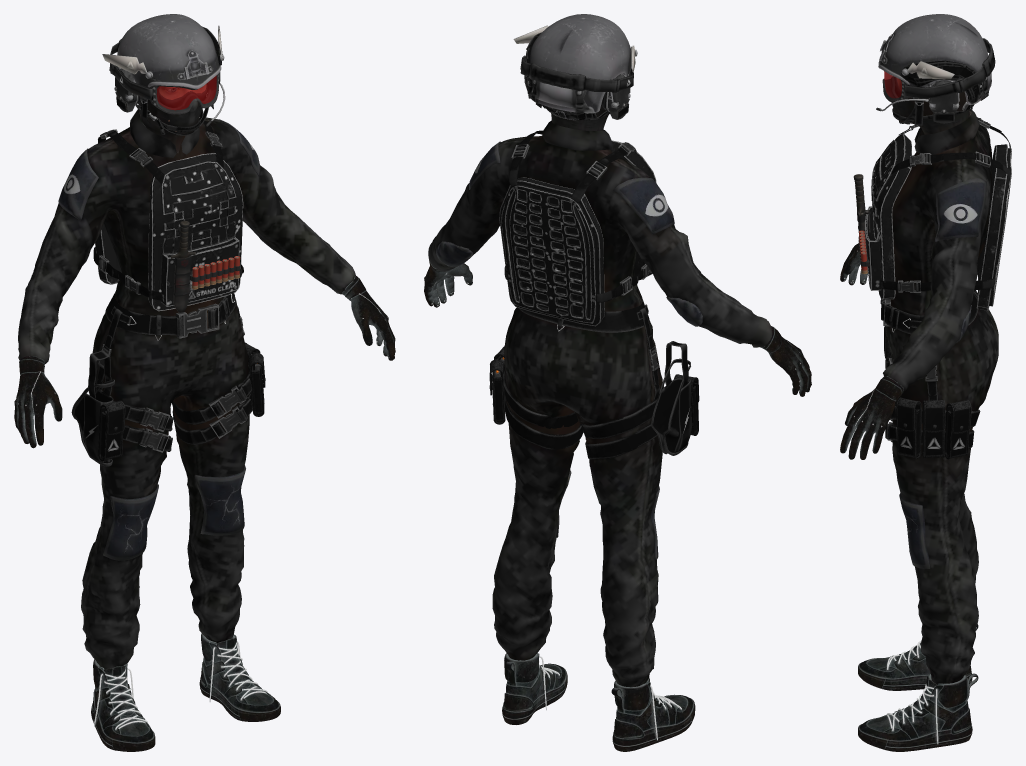
File: modern-soldier-v1.glb
3 renders of one model, left to right at view 1: azimuth 30°, elevation 25°; view 2: azimuth 150°, elevation 25°; view 3: azimuth 270°, elevation 25°, orthographic.
Visible parts, largest first — view 1: Object_20, Object_11, Object_23, Object_16, Object_8, Object_10, Object_14, Object_26, Object_22, Object_7, Object_19, Object_3; view 2: Object_20, Object_11, Object_23, Object_8, Object_16, Object_22, Object_10, Object_26, Object_14; view 3: Object_20, Object_23, Object_16, Object_11, Object_26, Object_10, Object_8, Object_14, Object_7, Object_18, Object_19.
Part boxes in pixels (x1,y1,x2,y2): Object_20: (18,84,355,682); Object_11: (95,137,243,311); Object_23: (102,14,225,135); Object_16: (91,633,280,751); Object_8: (93,118,252,451); Object_10: (14,276,395,448); Object_14: (98,129,246,452); Object_26: (98,342,265,461); Object_22: (71,350,114,466); Object_7: (156,75,216,110); Object_19: (190,256,240,289); Object_3: (173,255,191,312); Object_20: (428,101,772,687); Object_11: (499,140,656,326); Object_23: (513,14,637,120); Object_8: (503,130,665,459); Object_16: (502,652,695,751); Object_22: (651,341,691,455); Object_10: (424,260,811,396); Object_26: (489,346,699,435); Object_14: (511,134,658,370); Object_20: (883,77,998,686); Object_23: (876,14,995,125); Object_16: (858,624,978,751); Object_11: (865,133,1011,310); Object_26: (884,326,971,459); Object_10: (840,243,903,459); Object_8: (880,118,1010,448); Object_14: (883,117,990,442); Object_7: (884,71,901,98); Object_18: (853,174,865,216); Object_19: (858,230,869,274).
Size of the model in its own units: 1.02 by 1.82 by 0.4084.
19 materials, 16 textured.
